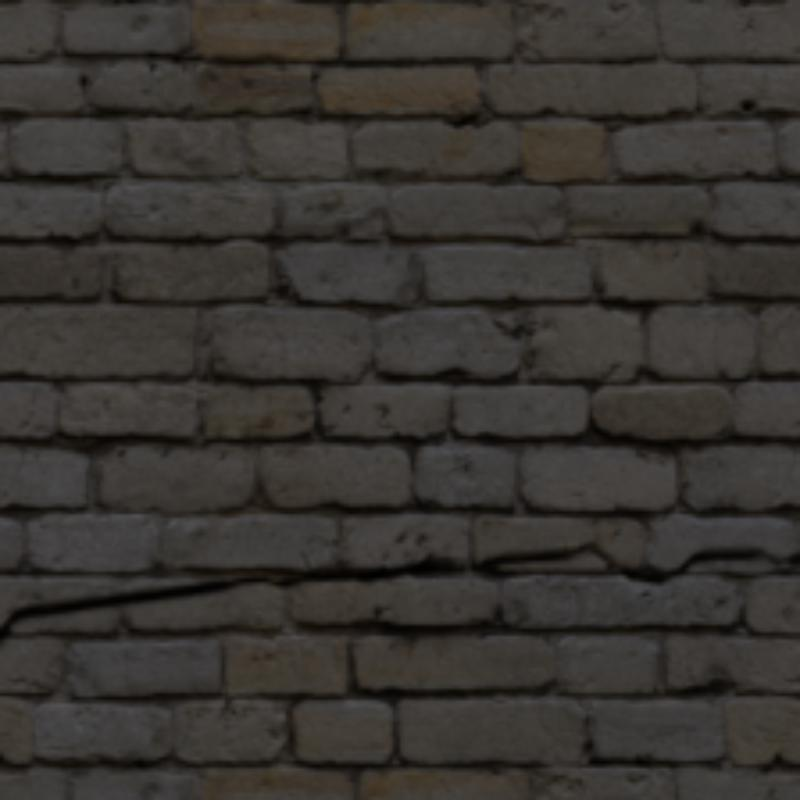crack: (0, 543, 796, 643)
